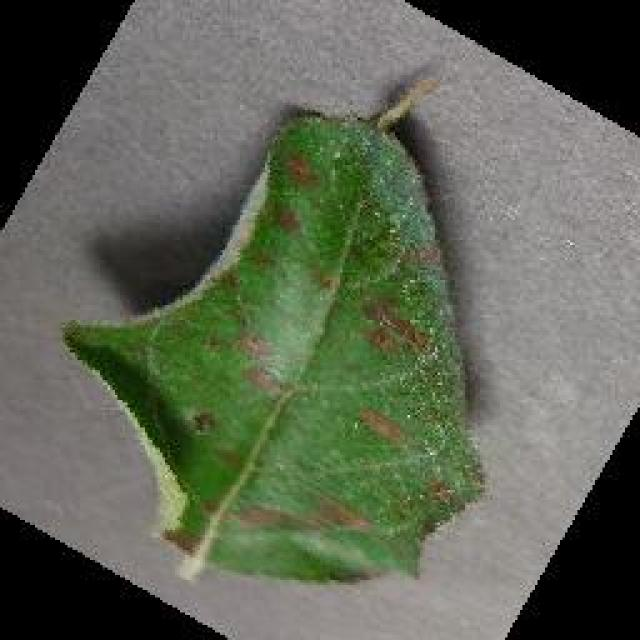apple healthy: (58, 77, 488, 585)
